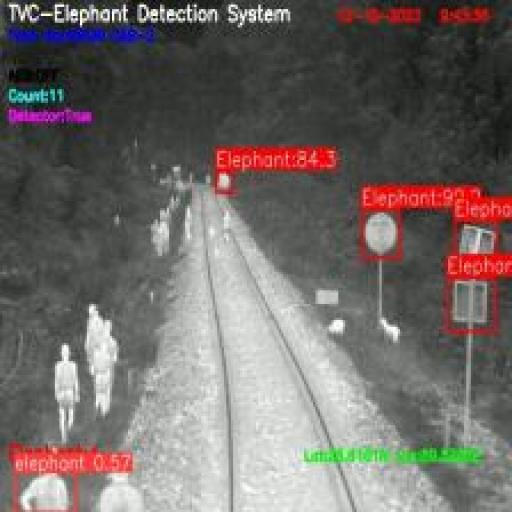Elephant: (16, 471, 78, 512)
